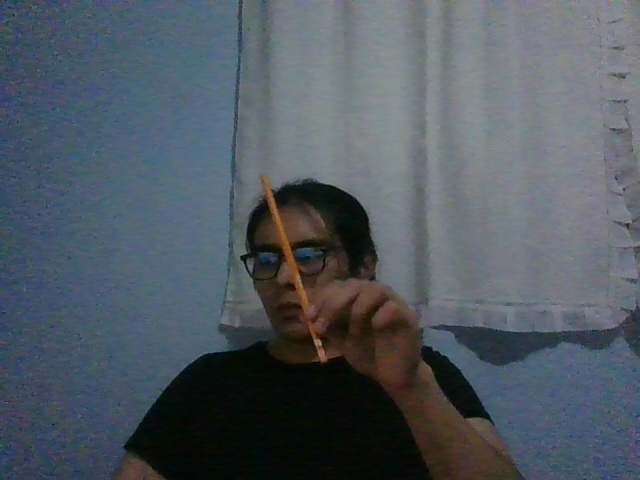lapiz: (259, 172, 329, 365)
